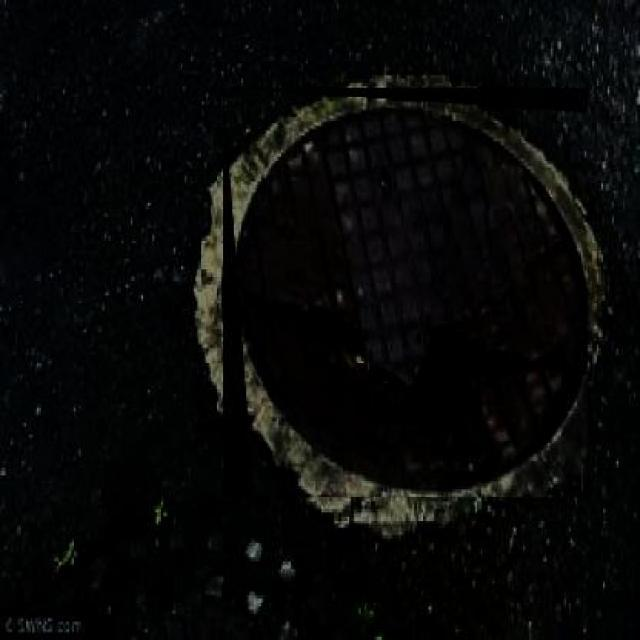Manhole: (223, 88, 588, 497)
